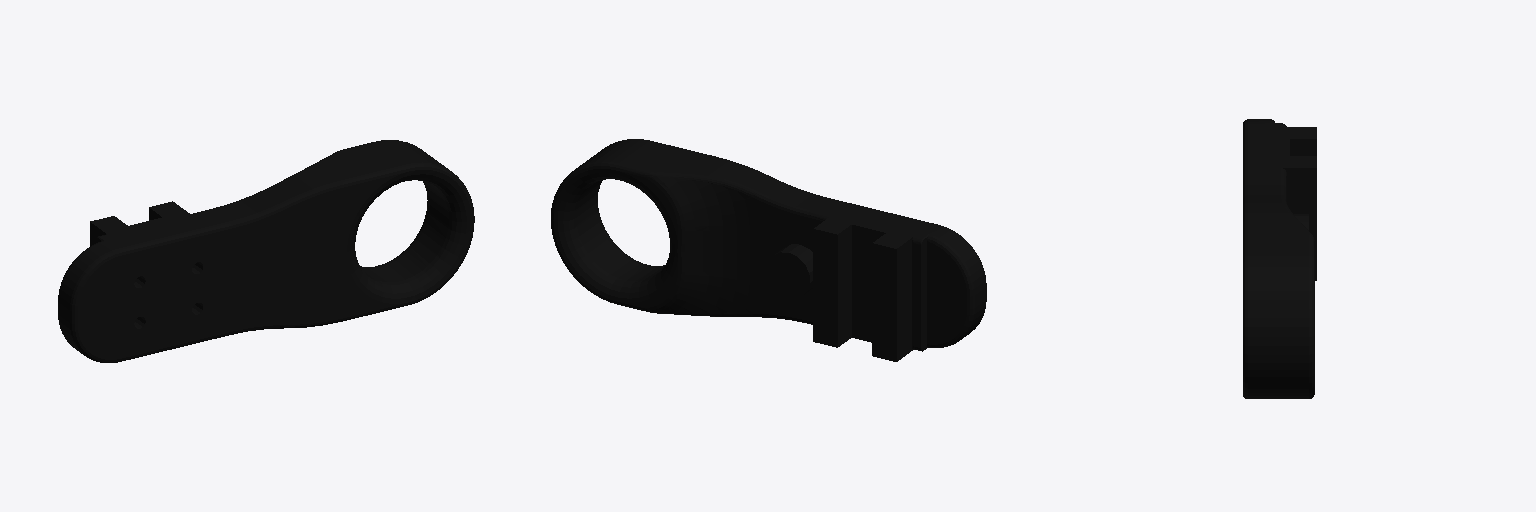
File: gripper_master.obj
3 views of the same model, side by side, from view 1: azimuth 30°, elevation 25°; view 2: azimuth 150°, elevation 25°; view 3: azimuth 270°, elevation 25° (orthographic).
Parts seen in each view (by area): view 1: link7; view 2: link7; view 3: link7.
Part boxes in pixels (left/top/right/bottom): link7: left=58, top=140, right=474, bottom=362; link7: left=551, top=139, right=986, bottom=361; link7: left=1243, top=119, right=1316, bottom=398.
Bounding box in the file's own units: 0.084 × 0.028 × 0.0135.